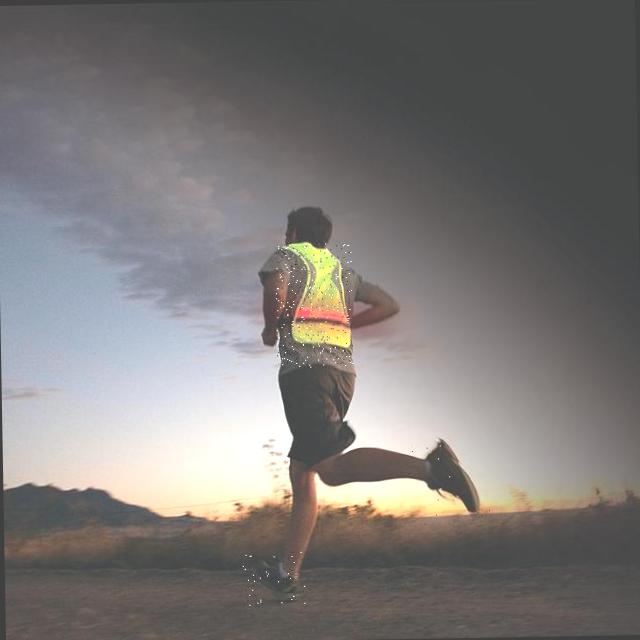boots: (411, 433, 490, 525), (240, 552, 305, 608)
vest: (274, 243, 353, 368)
